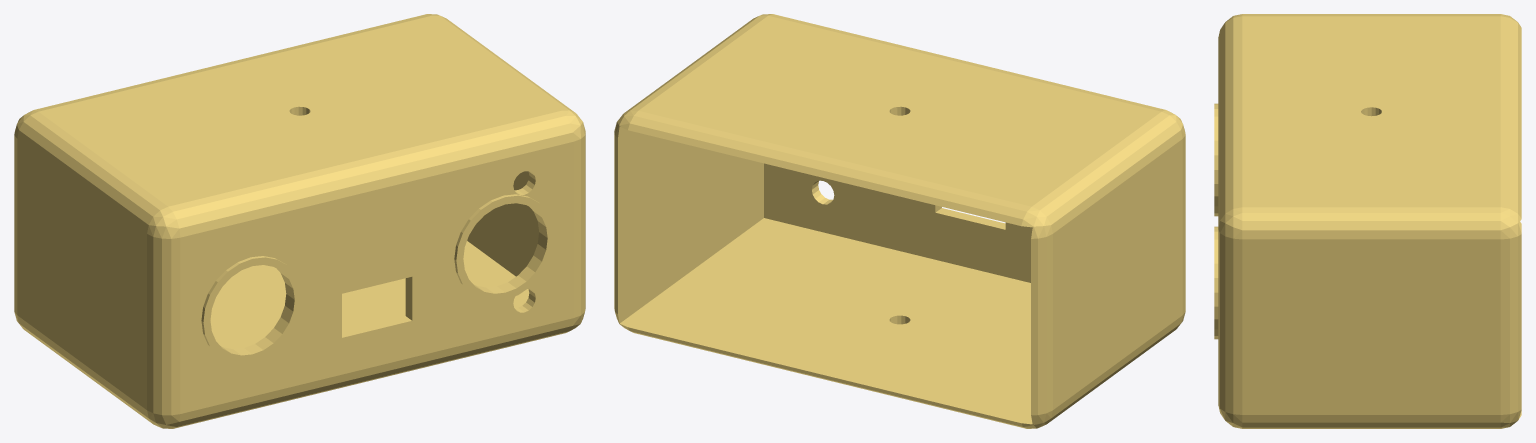
File: chin_housing.glb
3 views of the same model, side by side, from view 1: azimuth 30°, elevation 25°; view 2: azimuth 150°, elevation 25°; view 3: azimuth 270°, elevation 25° (orthographic).
Parts seen in each view (by area): view 1: chin_housing; view 2: chin_housing; view 3: chin_housing.
Part boxes in pixels (x1,y1,x2,y2): chin_housing: (14,14,585,428); chin_housing: (614,14,1185,428); chin_housing: (1214,14,1521,428).
Size of the model in its own units: 0.062 by 0.03 by 0.0381.
